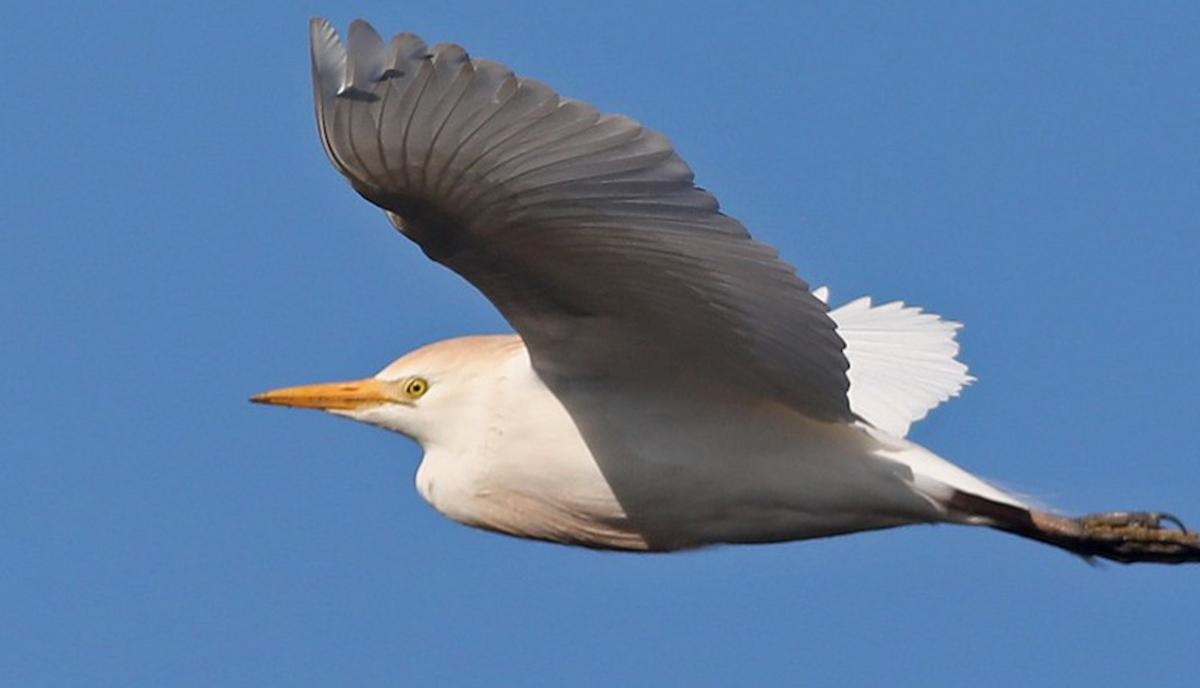egret: (247, 27, 1200, 614)
